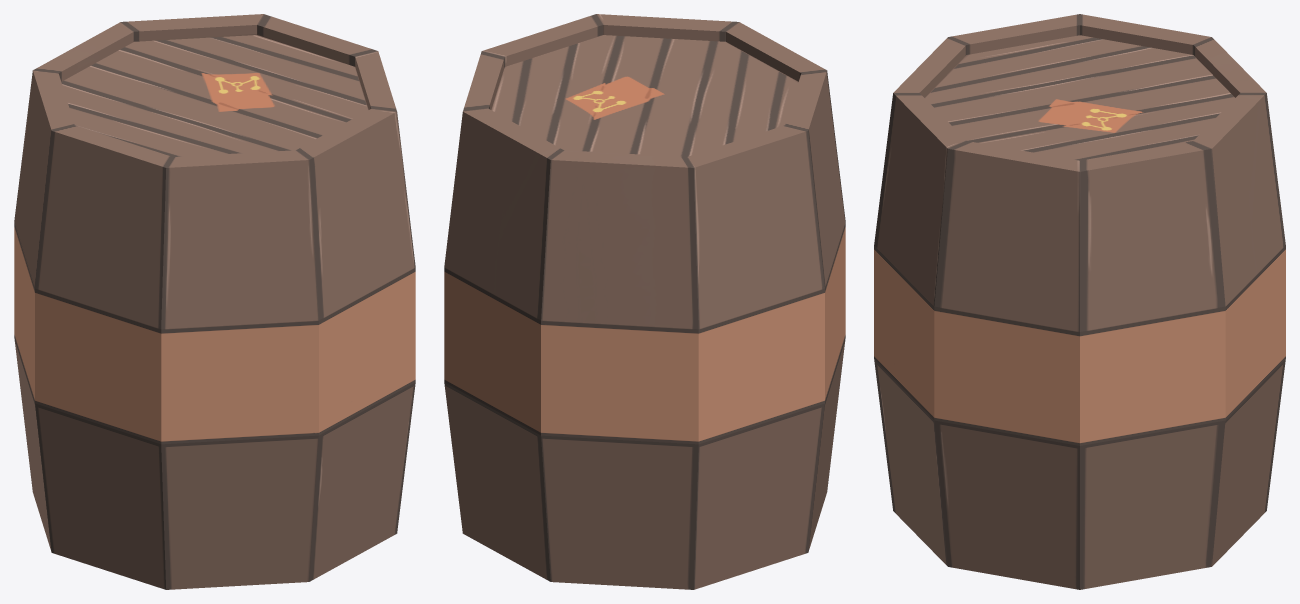
Rendered from barrel.fbx.
3 renders of one model, left to right at view 1: azimuth 30°, elevation 25°; view 2: azimuth 150°, elevation 25°; view 3: azimuth 270°, elevation 25°, orthographic.
Visible parts, largest first — view 1: barrel; view 2: barrel; view 3: barrel.
Part boxes in pixels (x1,y1,x2,y2): barrel: (14,14,415,589); barrel: (444,14,845,589); barrel: (874,14,1285,589).
Bounding box in the file's own units: 220 × 247 × 220.
